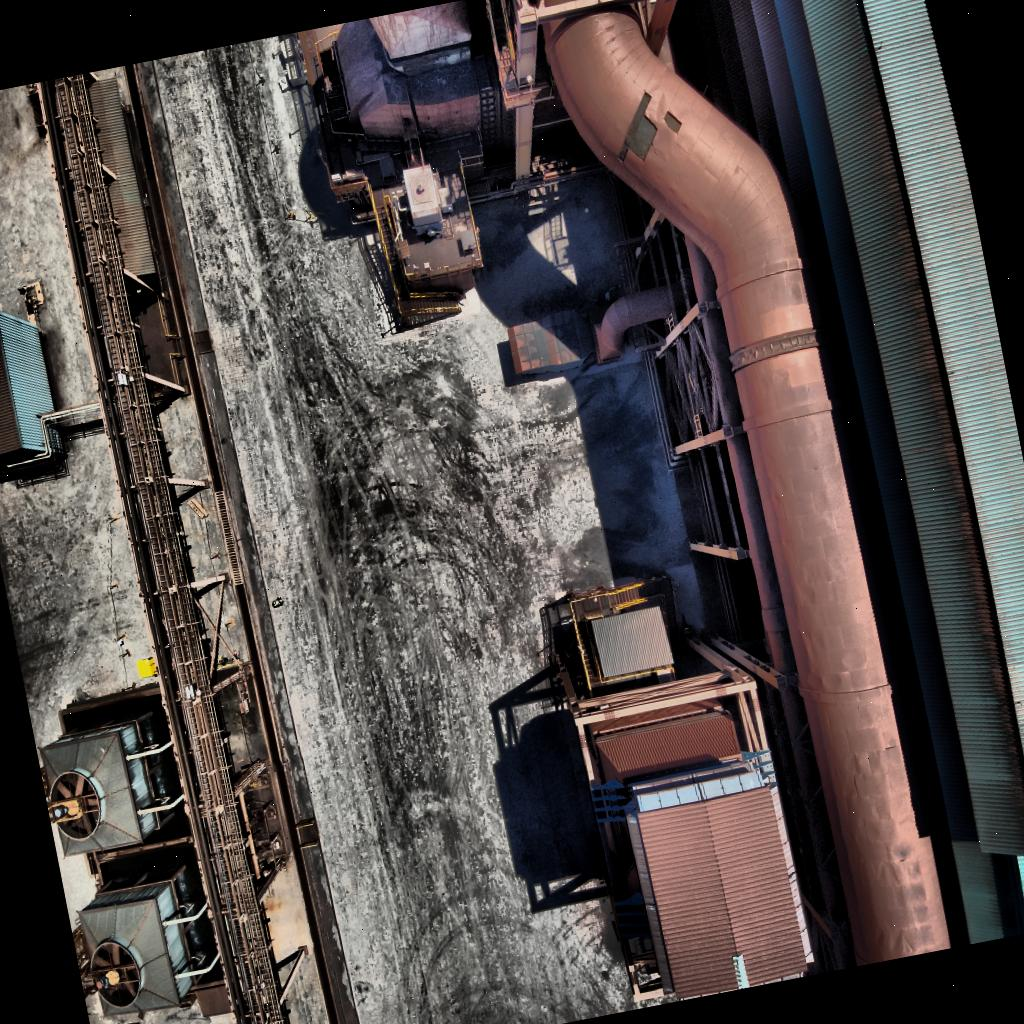Failures: (605, 90, 664, 166), (662, 108, 684, 138)
